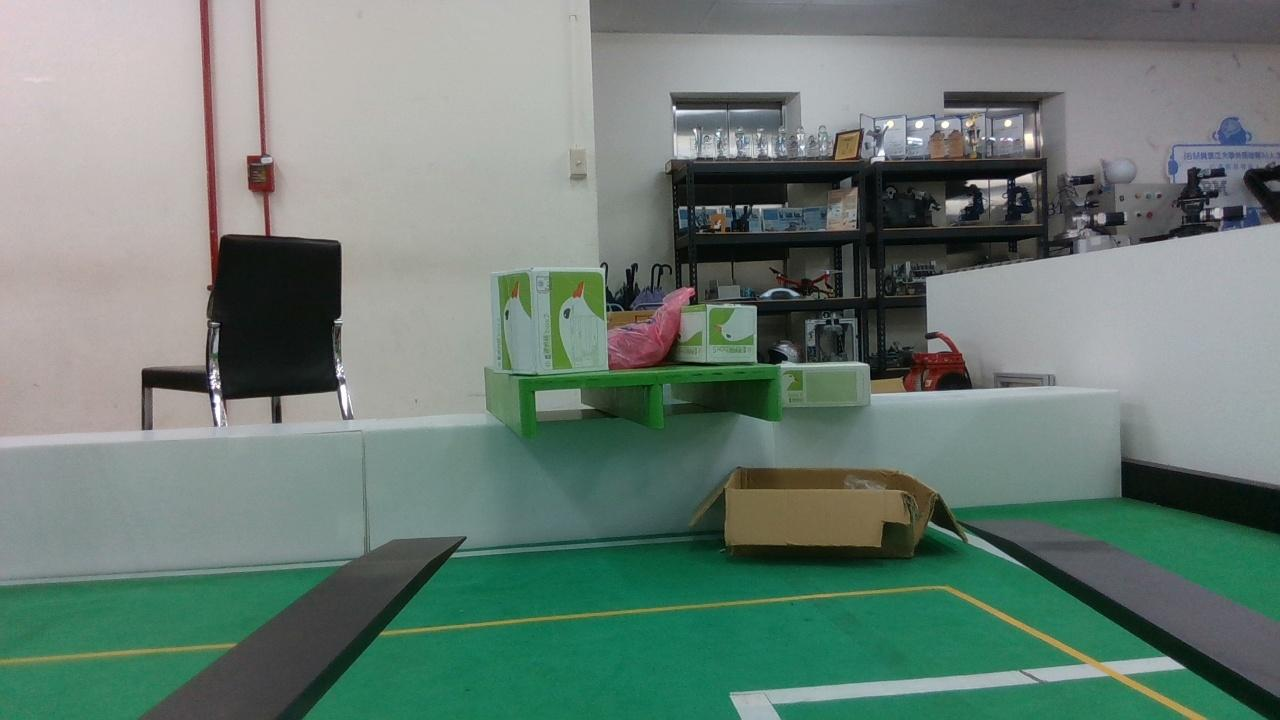Pallet: (514, 366, 783, 437)
